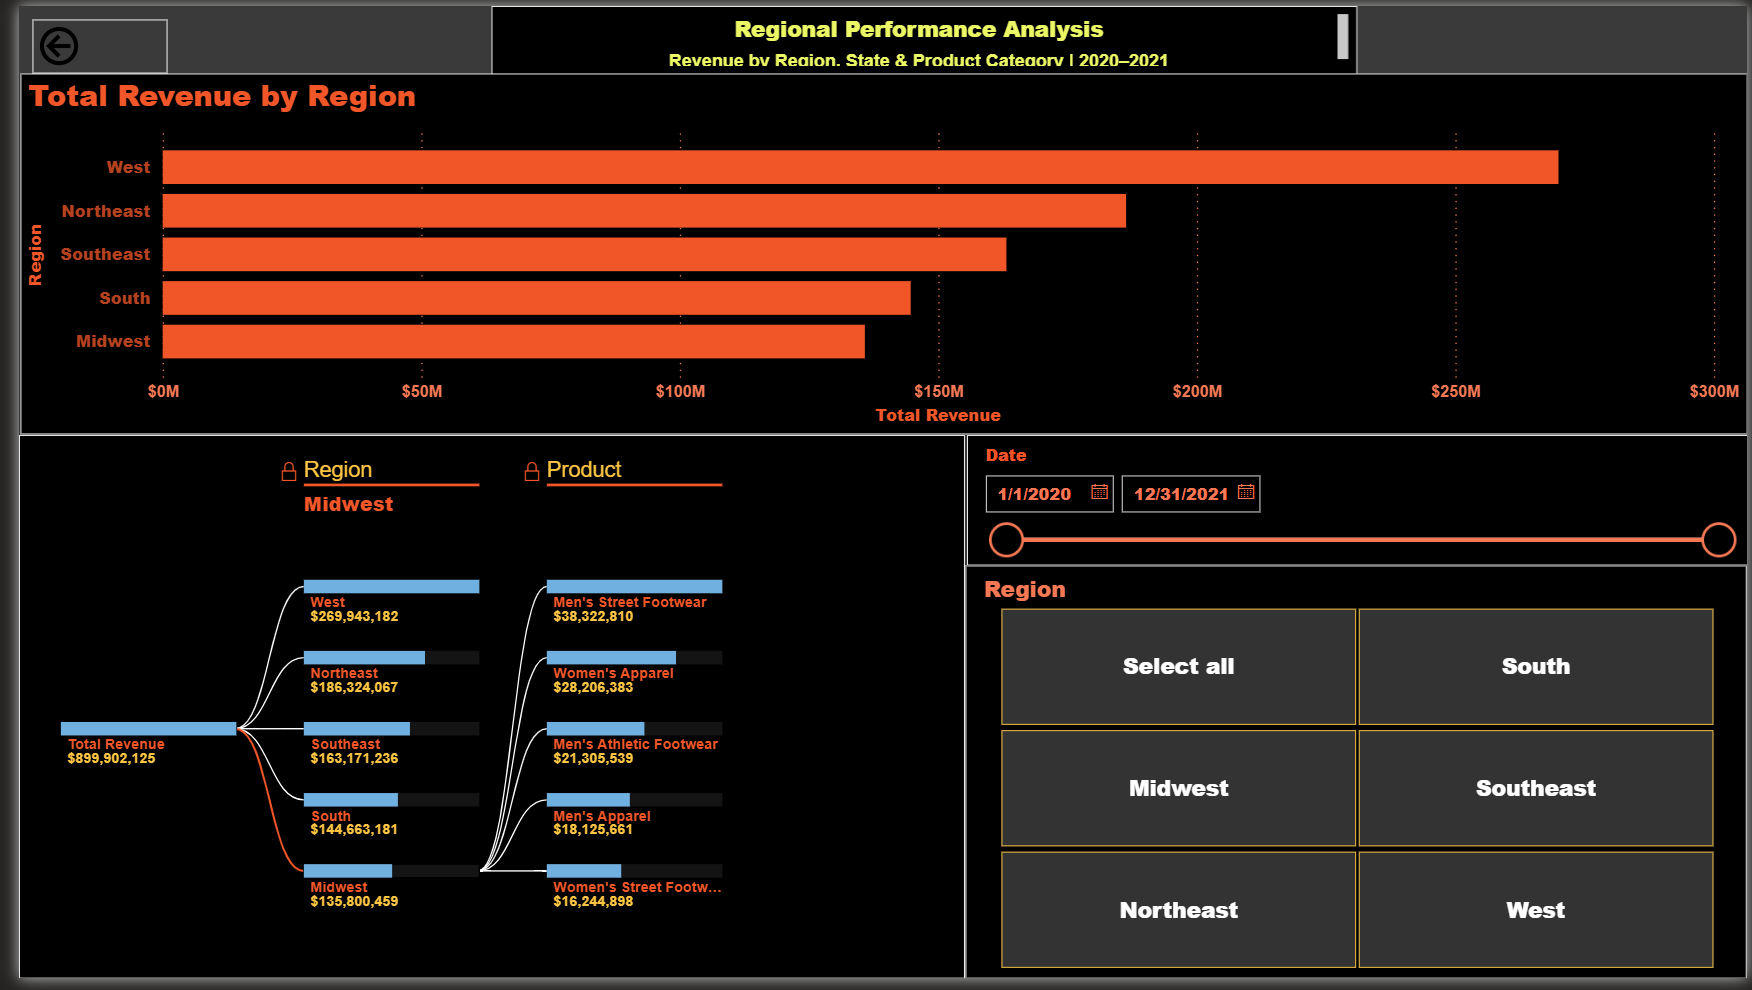

What the dashboard file says about the page in this screenshot:
{"tool":"powerbi","page":{"name":"Regional Performance","canvas":[1280,720],"ordinal":1},"visuals":[{"type":"clusteredBarChart","fields":{"Category":["Data Sales Adidas.Region","Data Sales Adidas.State","Data Sales Adidas.City"],"Y":["_Measures.Total Revenue"]},"box":[1,50.4,1279.4,267.2],"z":0},{"type":"decompositionTreeVisual","fields":{"Analyze":["_Measures.Total Revenue"],"ExplainBy":["Data Sales Adidas.Region","Data Sales Adidas.Product"]},"box":[0,317.5,700.8,402.8],"z":1000},{"type":"slicer","fields":{"Values":["Data Sales Adidas.Region"]},"box":[700.8,414.1,578.5,306.2],"z":2000},{"type":"slicer","fields":{"Values":["Date.Date"]},"box":[701.9,317.5,578.5,96.6],"z":3000},{"type":"actionButton","box":[10,10,100,40],"z":4000},{"type":"textbox","box":[350.4,0,641.2,50.4],"z":4001}]}

Visuals, with their boxes in screenshot pixels (x1, y1, x2, y2), scaled from the page's 1280x720 canvas onto the 1752x990 screenshot:
clusteredBarChart - Data Sales Adidas.Region x Data Sales Adidas.State: <box>1,69,1751,437</box>
decompositionTreeVisual - _Measures.Total Revenue x Data Sales Adidas.Region: <box>0,437,959,989</box>
slicer - Data Sales Adidas.Region: <box>959,569,1751,989</box>
slicer - Date.Date: <box>961,437,1751,569</box>
actionButton: <box>14,14,151,69</box>
textbox: <box>480,0,1357,69</box>
